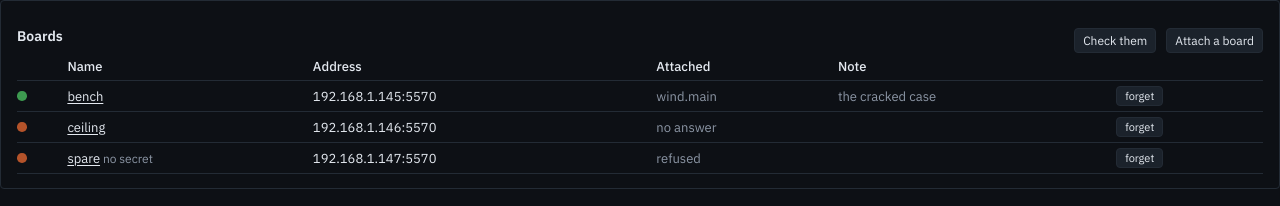
Test case: the shelf › forgets a board, and asks first
expect the button "bench" is shown: met, box [67, 88, 103, 104]
Click the button with aria-label "Forget bench": [1140, 96] box [1116, 86, 1163, 106]
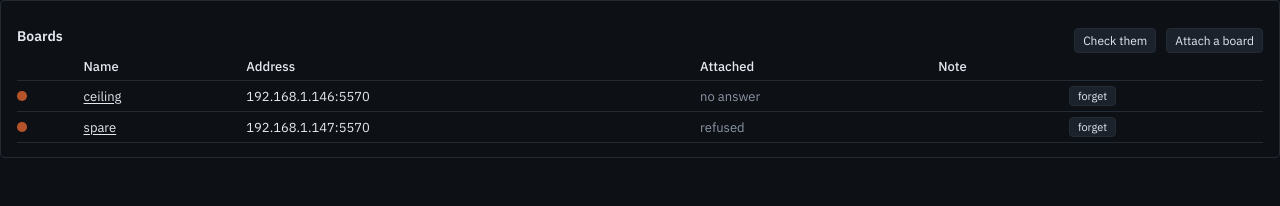
expect the button "bench" is gone: met
